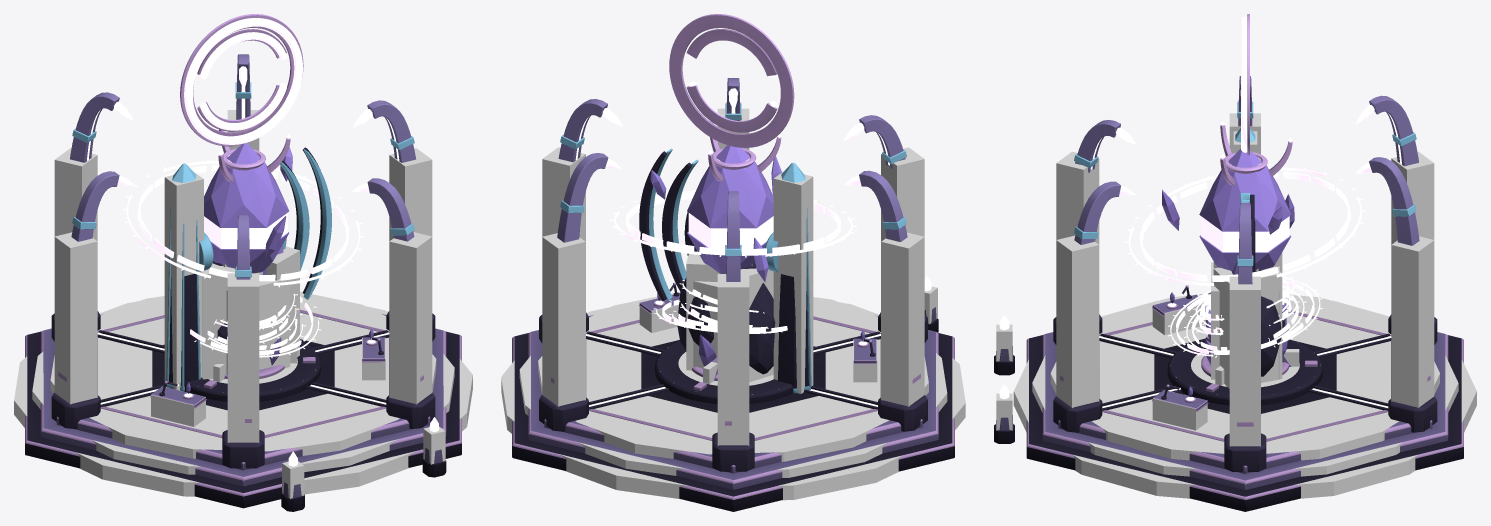
File: landmarks-projects.glb
3 views of the same model, side by side, from view 1: azimuth 30°, elevation 25°; view 2: azimuth 150°, elevation 25°; view 3: azimuth 270°, elevation 25° (orthographic).
Visible parts, largest first — view 1: workshop_core, COL_CYL_deck, ANIM_SPIN_emblem, ANIM_SPIN_core, COL_BOX_pylon_5, COL_BOX_pylon_3, project_heard, COL_CYL_tier_0, COL_BOX_pylon_4, COL_BOX_pillar, ANIM_SPIN_ring (×2), COL_CYL_tier_1 (+9 smaller); view 2: workshop_core, COL_CYL_deck, ANIM_SPIN_emblem, ANIM_SPIN_core, COL_BOX_pylon_3, COL_BOX_pylon_1, project_heard, COL_CYL_tier_0, COL_BOX_pillar, COL_BOX_pylon_2, COL_CYL_tier_1, ANIM_SPIN_ring (×2) (+9 smaller); view 3: workshop_core, COL_CYL_deck, ANIM_SPIN_core, COL_BOX_pylon_5, COL_BOX_pylon_1, COL_CYL_tier_0, ANIM_SPIN_ring (×3), COL_BOX_pylon_0, COL_CYL_tier_1, COL_BOX_pylon_4, COL_BOX_half_R, COL_BOX_pylon_2 (+9 smaller).
Boxes of the visible parts, left/top/right/bottom form: workshop_core: left=25, top=54, right=461, bottom=511; COL_CYL_deck: left=50, top=291, right=436, bottom=458; ANIM_SPIN_emblem: left=180, top=14, right=303, bottom=146; ANIM_SPIN_core: left=204, top=143, right=292, bottom=273; COL_BOX_pylon_5: left=389, top=232, right=432, bottom=404; COL_BOX_pylon_3: left=54, top=232, right=97, bottom=404; project_heard: left=166, top=147, right=331, bottom=391; COL_CYL_tier_0: left=14, top=302, right=472, bottom=496; COL_BOX_pylon_4: left=227, top=273, right=259, bottom=442; COL_BOX_pillar: left=164, top=171, right=203, bottom=390; ANIM_SPIN_ring (×2): left=122, top=159, right=364, bottom=358; COL_CYL_tier_1: left=32, top=301, right=454, bottom=474; workshop_core: left=512, top=78, right=954, bottom=511; COL_CYL_deck: left=538, top=292, right=928, bottom=461; ANIM_SPIN_emblem: left=669, top=14, right=794, bottom=147; ANIM_SPIN_core: left=650, top=145, right=781, bottom=282; COL_BOX_pylon_3: left=881, top=232, right=924, bottom=406; COL_BOX_pylon_1: left=542, top=233, right=585, bottom=406; project_heard: left=639, top=148, right=811, bottom=393; COL_CYL_tier_0: left=501, top=303, right=965, bottom=500; COL_BOX_pillar: left=773, top=170, right=813, bottom=393; COL_BOX_pylon_2: left=717, top=274, right=749, bottom=445; COL_CYL_tier_1: left=519, top=302, right=947, bottom=477; ANIM_SPIN_ring (×2): left=610, top=189, right=856, bottom=333; workshop_core: left=994, top=76, right=1463, bottom=511; COL_CYL_deck: left=1050, top=294, right=1439, bottom=460; ANIM_SPIN_core: left=1162, top=148, right=1294, bottom=270; COL_BOX_pylon_5: left=1056, top=235, right=1099, bottom=407; COL_BOX_pylon_1: left=1391, top=236, right=1434, bottom=407; COL_CYL_tier_0: left=1013, top=300, right=1476, bottom=498; ANIM_SPIN_ring (×3): left=1124, top=167, right=1365, bottom=357; COL_BOX_pylon_0: left=1229, top=276, right=1260, bottom=446; COL_CYL_tier_1: left=1032, top=316, right=1458, bottom=476; COL_BOX_pylon_4: left=1056, top=151, right=1099, bottom=244; COL_BOX_half_R: left=1213, top=266, right=1282, bottom=388; COL_BOX_pylon_2: left=1391, top=151, right=1434, bottom=244.
Bounding box in the file's own units: 19.18 × 16.14 × 18.35.
